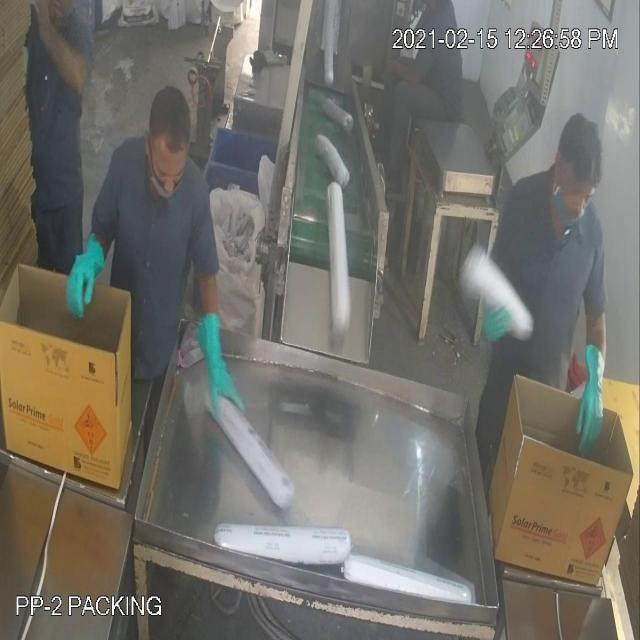No_Gloves: (45, 34, 596, 398)
